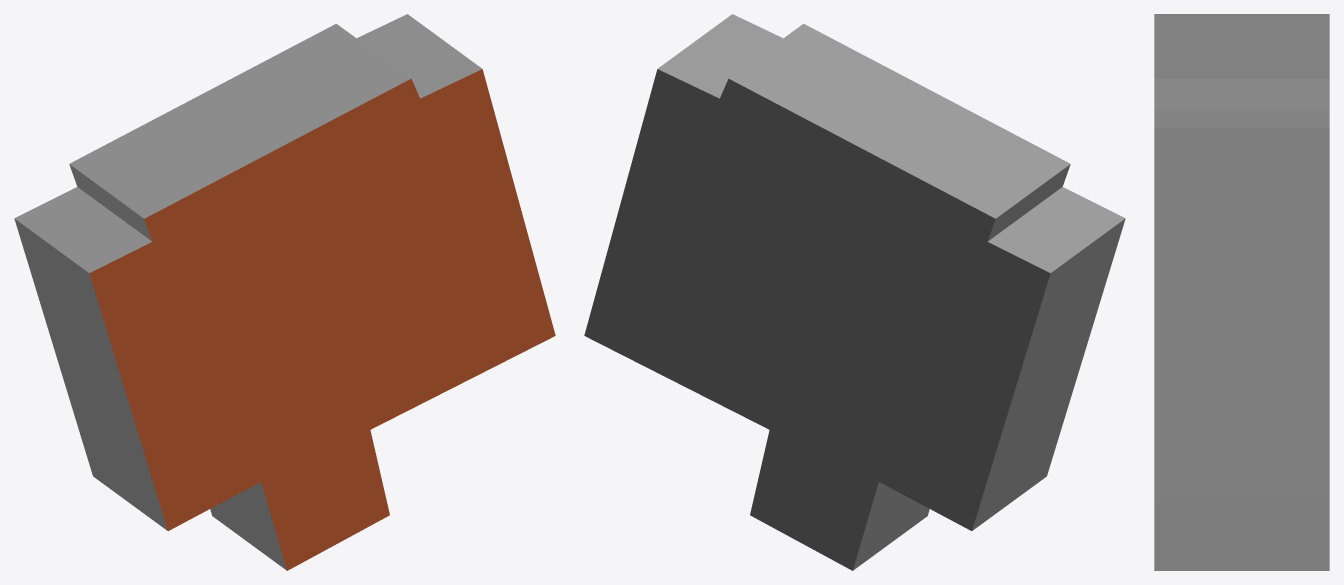
The model's file is construction_1162_assumed_A_Casa_h6m.obj.
3 renders of one model, left to right at view 1: azimuth 30°, elevation 25°; view 2: azimuth 150°, elevation 25°; view 3: azimuth 270°, elevation 25°, orthographic. The views are drawn at different scales.
Parts seen in each view (by area): view 1: construction_1162_assumed_A_Casa; view 2: construction_1162_assumed_A_Casa; view 3: construction_1162_assumed_A_Casa.
Boxes of the visible parts, x1,y1,x2,y2 form: construction_1162_assumed_A_Casa: [14, 14, 555, 570]; construction_1162_assumed_A_Casa: [584, 14, 1125, 570]; construction_1162_assumed_A_Casa: [1154, 14, 1329, 570].
Bounding box in the file's own units: 21.52 × 20.38 × 6.
